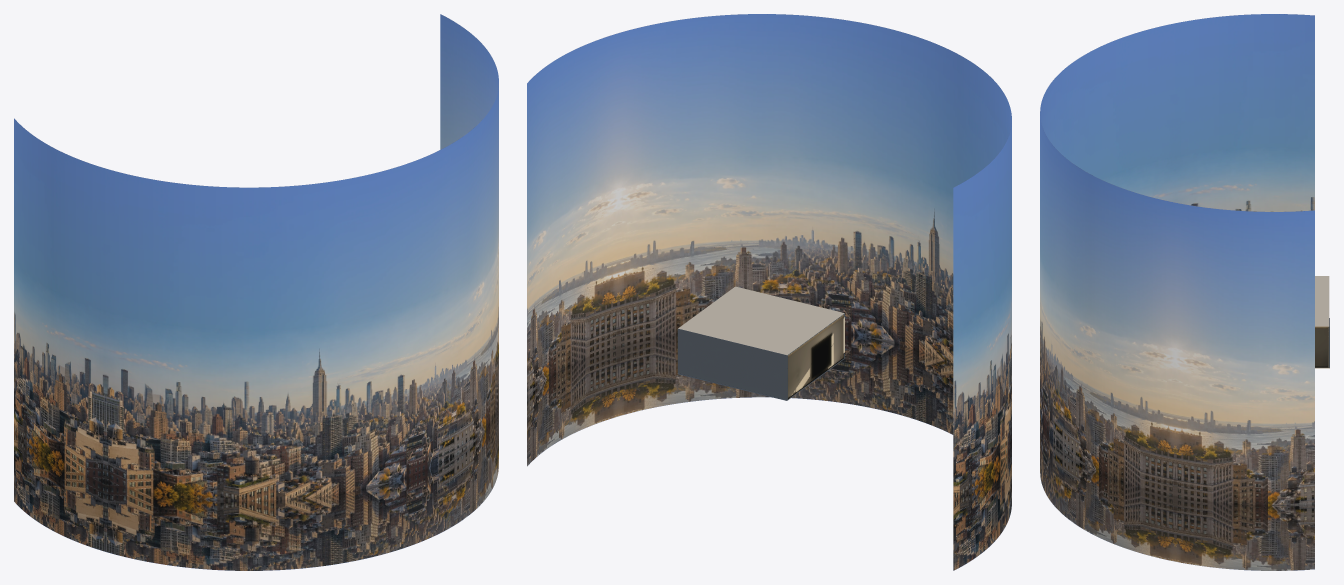
The model's file is studio-baked.glb.
3 renders of one model, left to right at view 1: azimuth 30°, elevation 25°; view 2: azimuth 150°, elevation 25°; view 3: azimuth 270°, elevation 25°, orthographic. The views are drawn at different scales.
Parts seen in each view (by area): view 1: studio-window-view; view 2: studio-window-view, studio-architecture; view 3: studio-window-view, studio-architecture.
Boxes of the visible parts, <box> form: studio-window-view: <box>14,14,498,570</box>; studio-window-view: <box>527,14,1011,570</box>; studio-architecture: <box>677,286,844,399</box>; studio-window-view: <box>1040,14,1314,570</box>; studio-architecture: <box>1315,276,1329,367</box>.
Size of the model in its own units: 68 by 57.53 by 42.07.
Materials: 8 (8 with a texture image).
